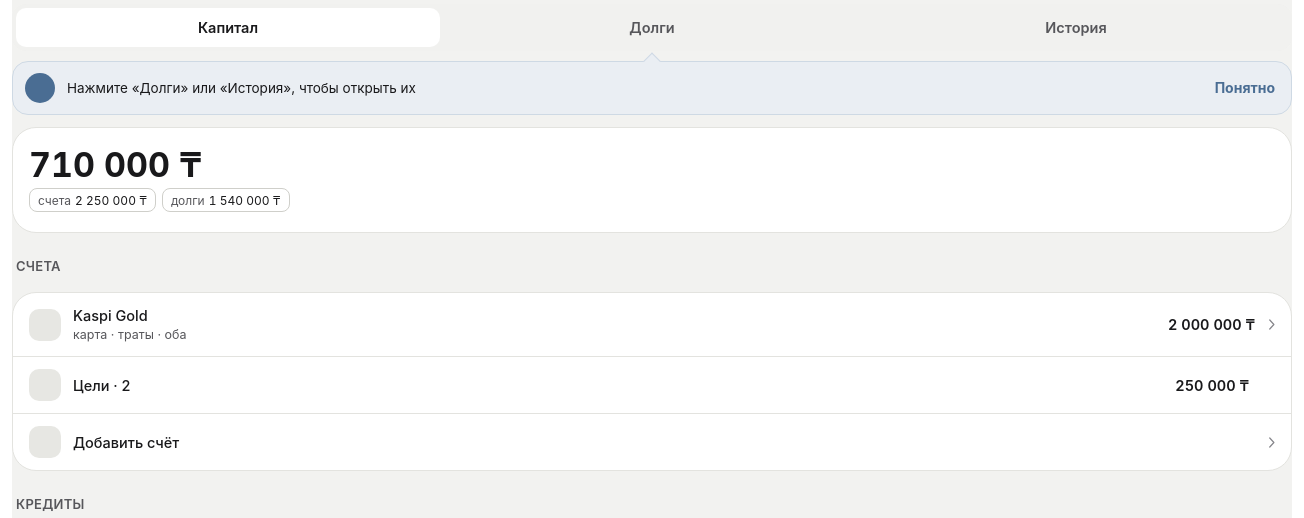
Test case: PN-05: плашка Капитала — формула «счета − долги» и аккордеон статистики › нажатие — четыре строки = capitalStats (суммы и %), рост до тысяч, срок и переплата с зарплатами; второе нажатие — закрыто
This screenshot has width=1304, height=518.
Click the button "710 000 ₸ счета 2 250 000 ₸ долги 1 540 000 ₸".
click(115, 165)  # box [12,127,1292,233]
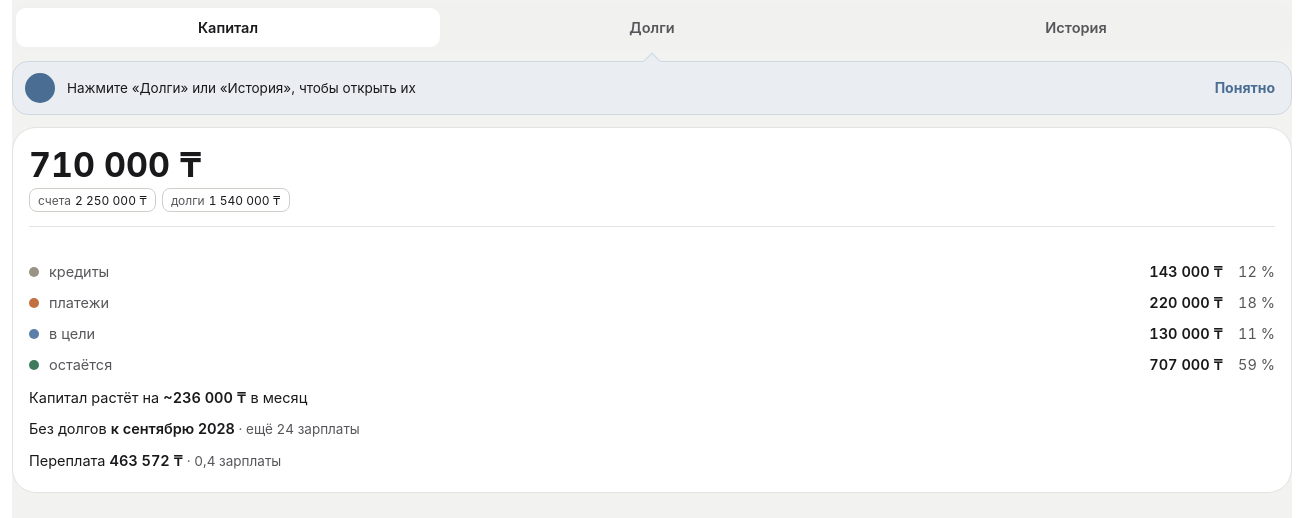
Check: the button that starts with "счета" is expanded
Click the button that starts with "счета".
click(63, 142)  # box [12,127,1292,492]
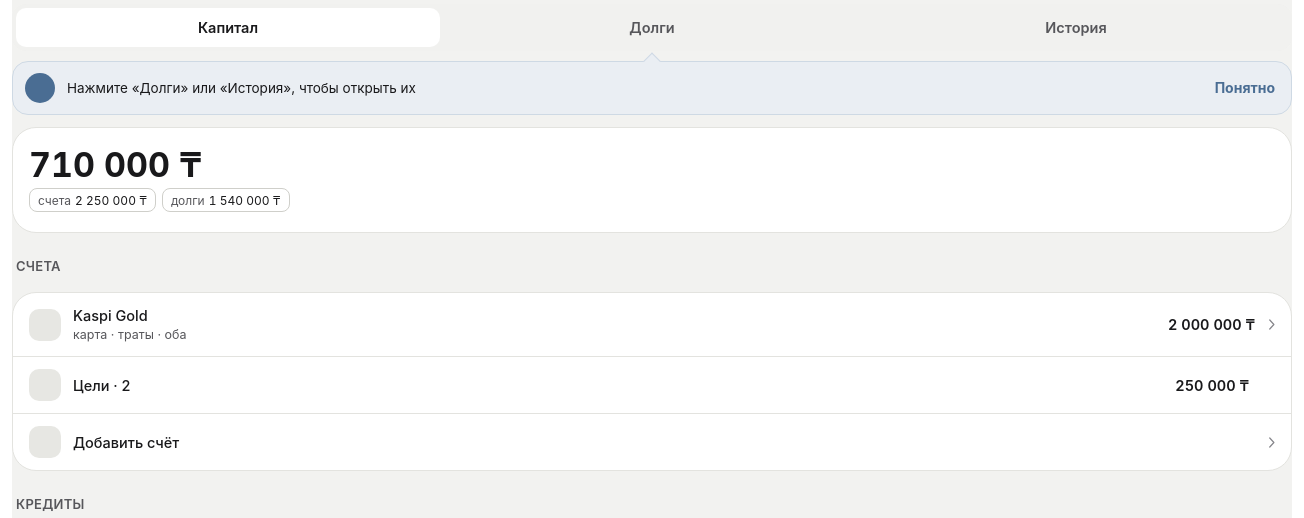
Check: the button "710 000 ₸ счета 2 250 000 ₸ долги 1 540 000 ₸" is collapsed, box [12,127,1292,233]
